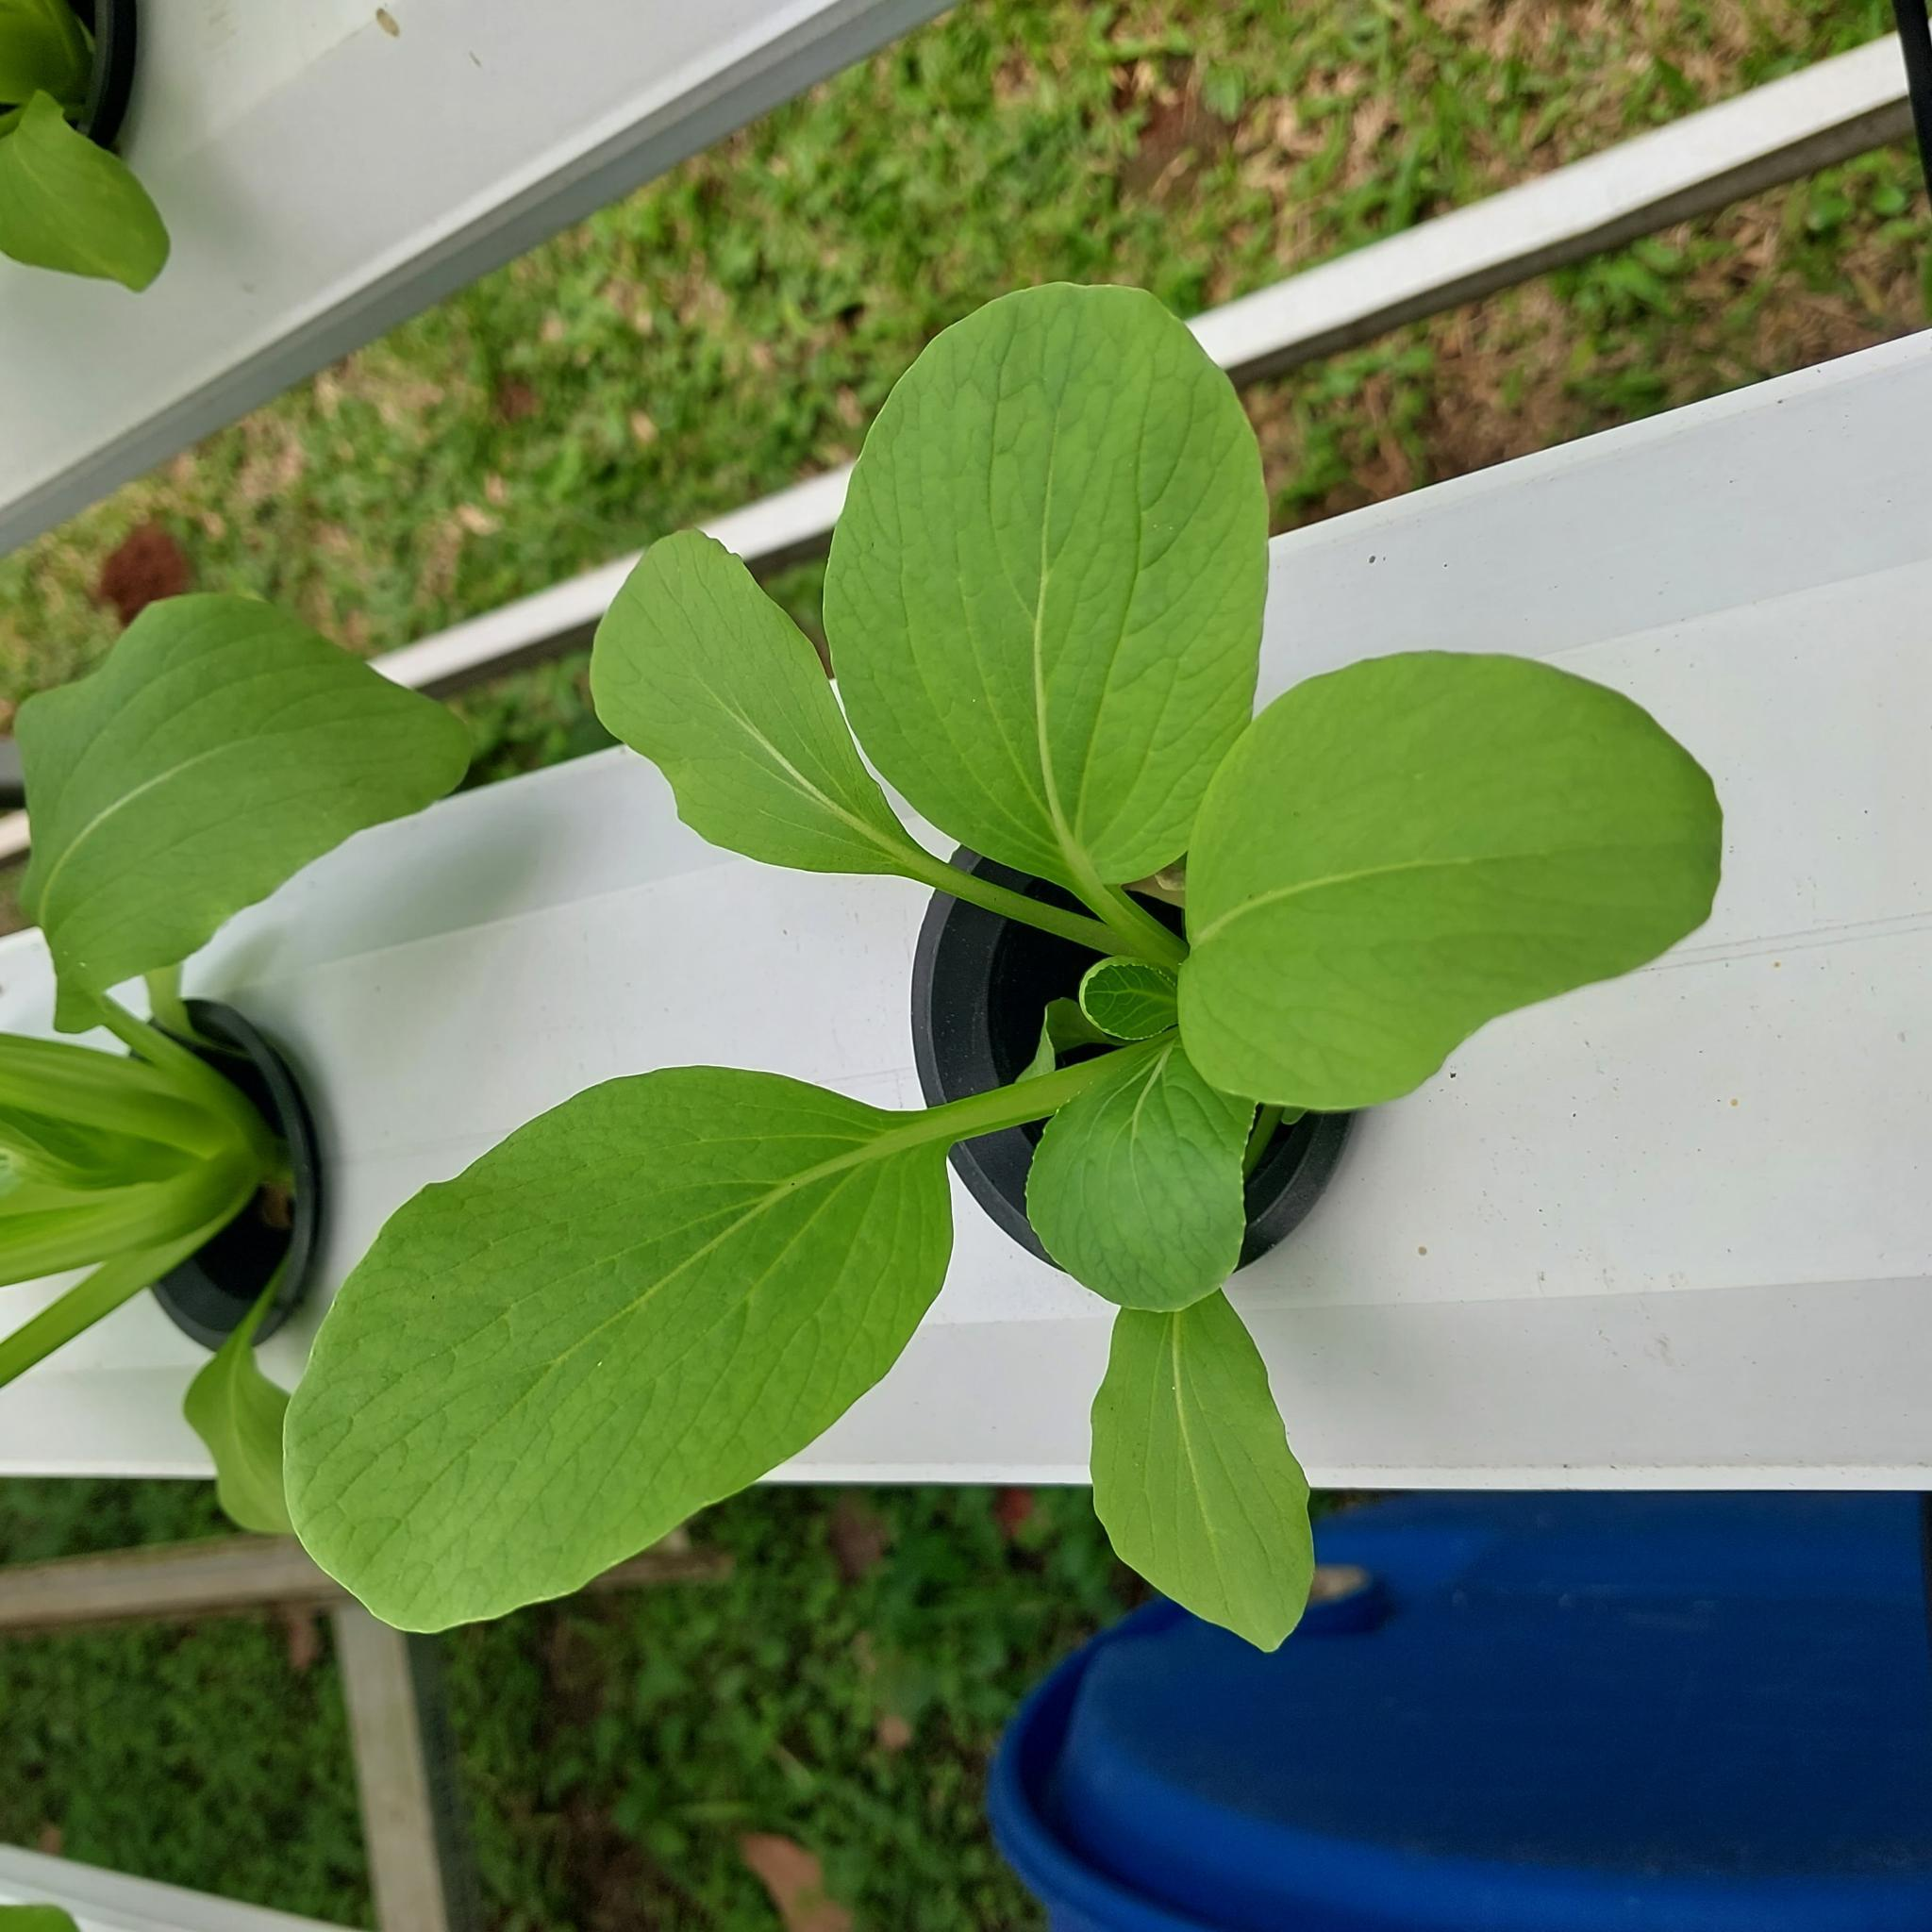Healthy-Pechay: (281, 1072, 966, 1637), (853, 276, 1240, 925), (1171, 660, 1727, 1100), (11, 594, 479, 1010), (584, 525, 1040, 952), (1088, 1281, 1309, 1661), (2, 1154, 262, 1426), (1026, 1017, 1258, 1315), (0, 88, 173, 297), (182, 1254, 303, 1543), (71, 975, 221, 1099), (16, 832, 60, 929), (51, 971, 113, 1033), (1628, 234, 1693, 278), (0, 106, 32, 142)
